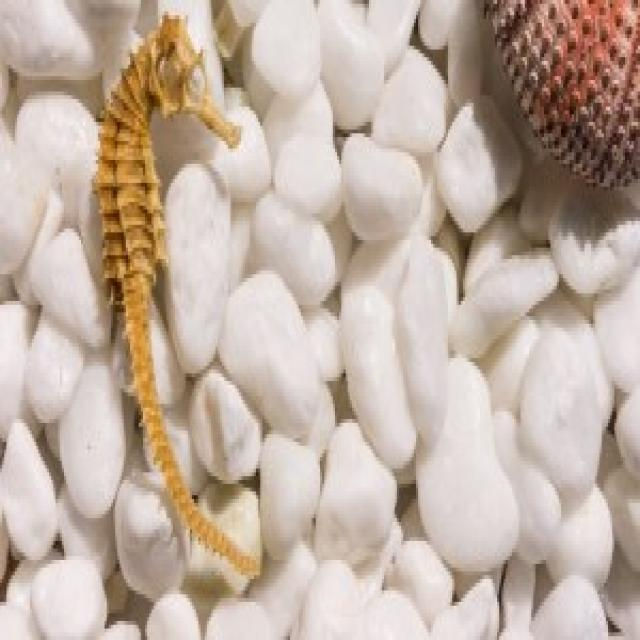Seahorse: (100, 9, 260, 584)
